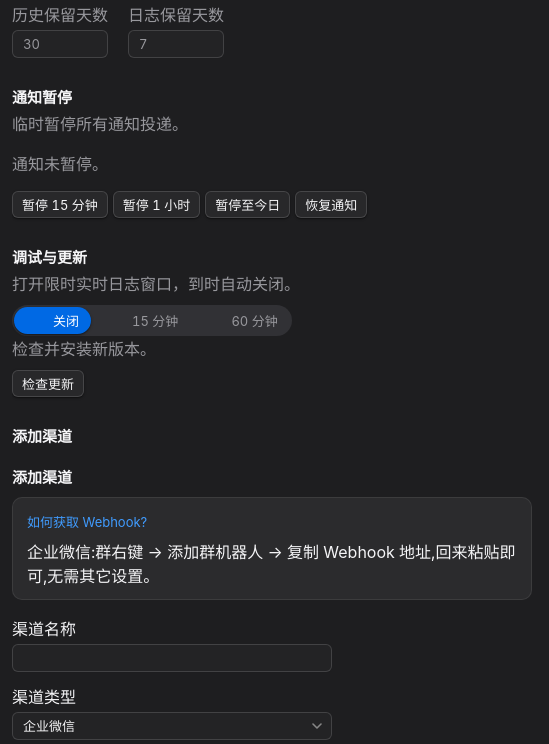
update check reports up-to-date when nothing is available
The width and height of the screenshot is (549, 744).
What coordinates should you click on to do the following:
click the button "检查更新"
I would click on:
 (48, 384)
Its box is [12, 370, 84, 397].
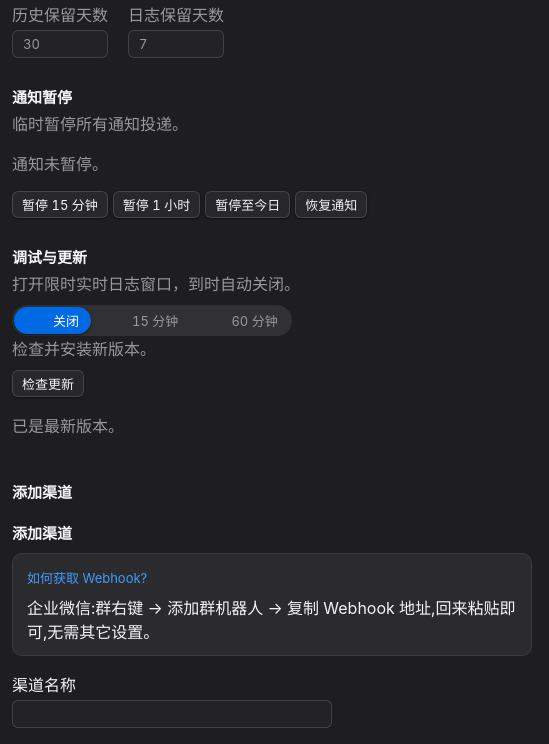
Expected: the text "已是最新版本。" is shown, [12, 416, 124, 436]
